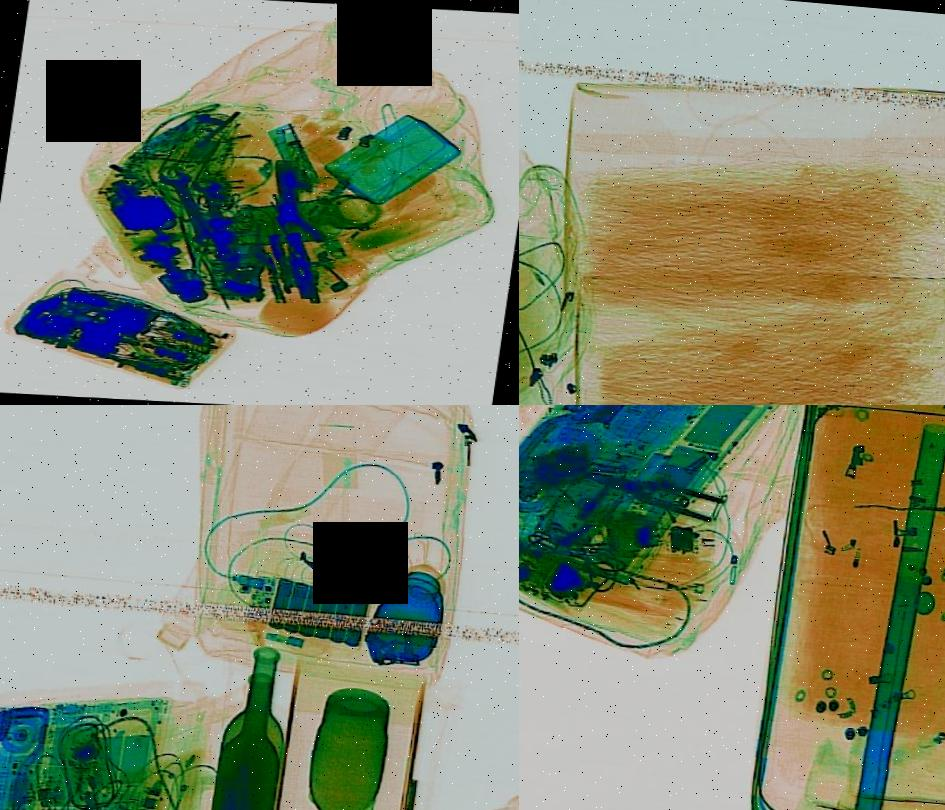Pliers: (570, 456, 728, 524)
Wrench: (142, 163, 232, 250), (174, 172, 253, 264)
